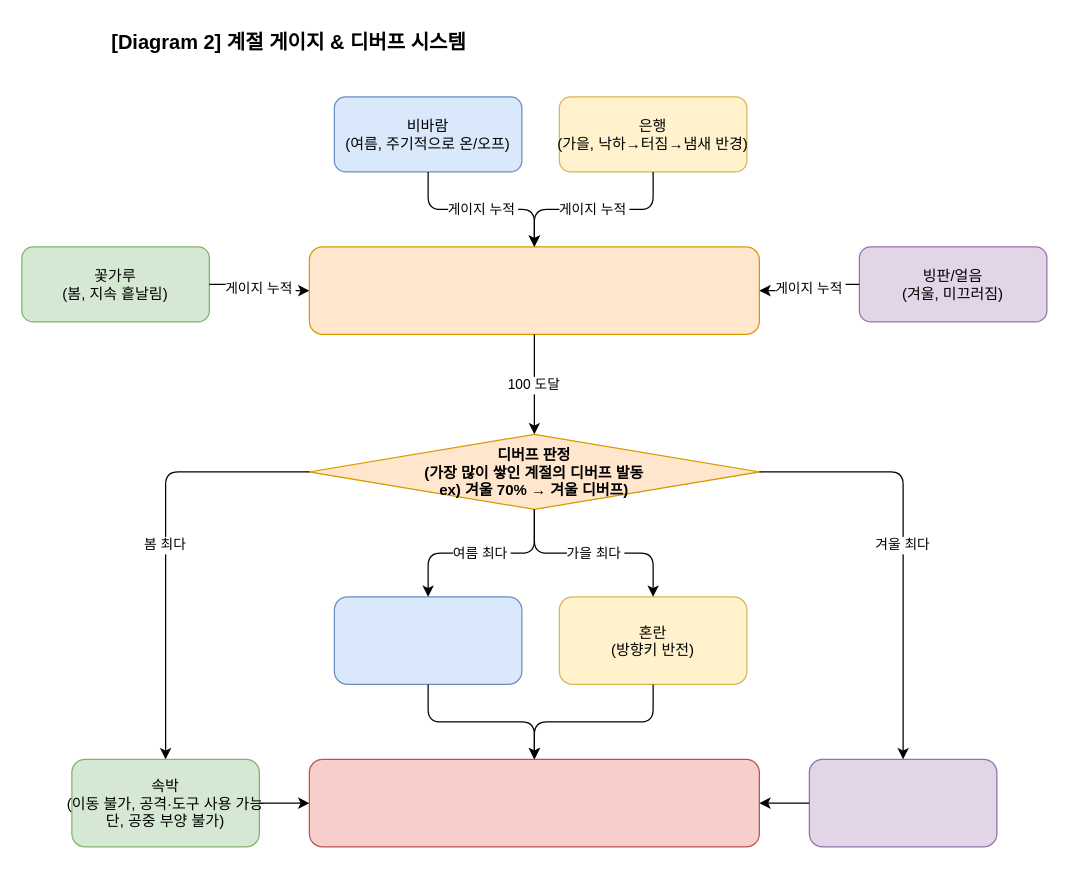
The diagram is 1069 pixels wide and 869 high, and some of its shapes have lost their labels. The centre of each missing label's shape, as x and y in pixels:
단일 게이지 바 봄 누적 | 여름 누적 | 가을 누적 | 겨울 누적 (각각 독립적으로 쌓임, 합산 100 도달 시 디버프): the point at 533,290
디버프 지속 중 → 다른 게이지 쌓임 없음 → 게이지 점차 0으로 감소 → 0 되면 디버프 해제: the point at 533,802
빙결 (모든 행동 불가): the point at 902,802
이동속도 저하 + HP 드레인: the point at 427,640
